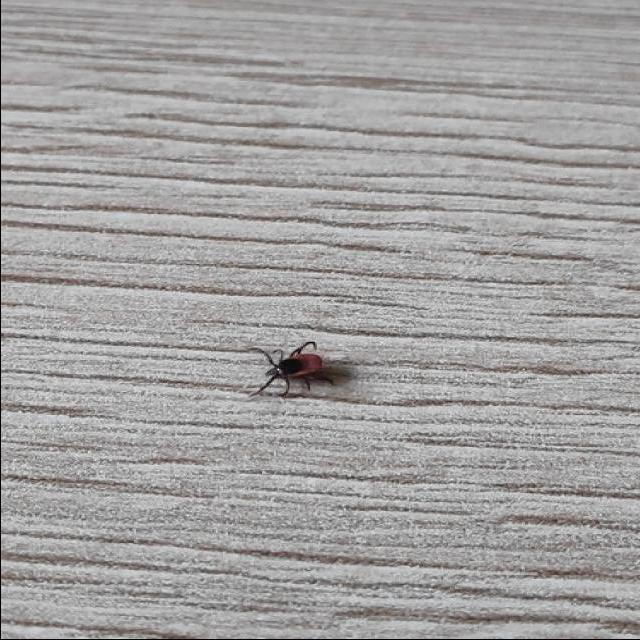Ixodes Ricinus-F: (237, 342, 350, 402)
